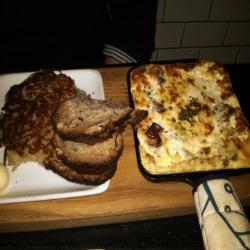bread: (59, 95, 121, 181)
